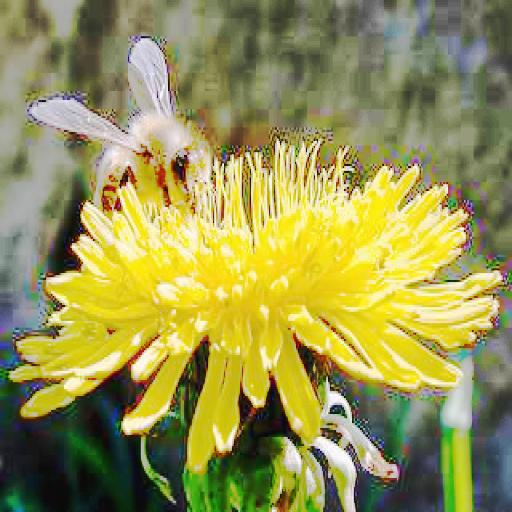dandelion: (10, 125, 508, 423)
